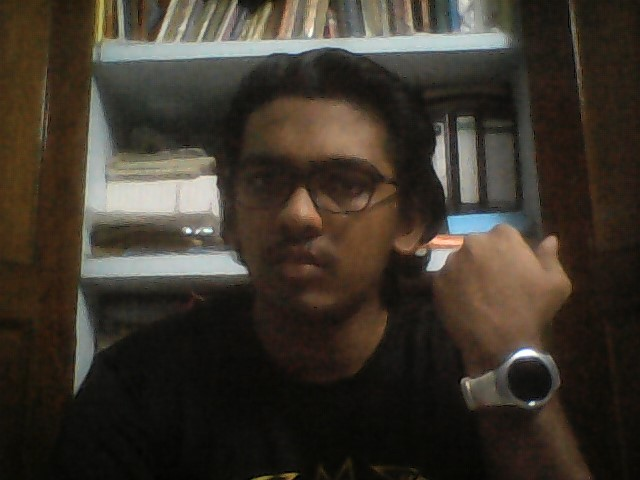person: (76, 46, 595, 468)
smartwatch: (451, 340, 568, 434)
